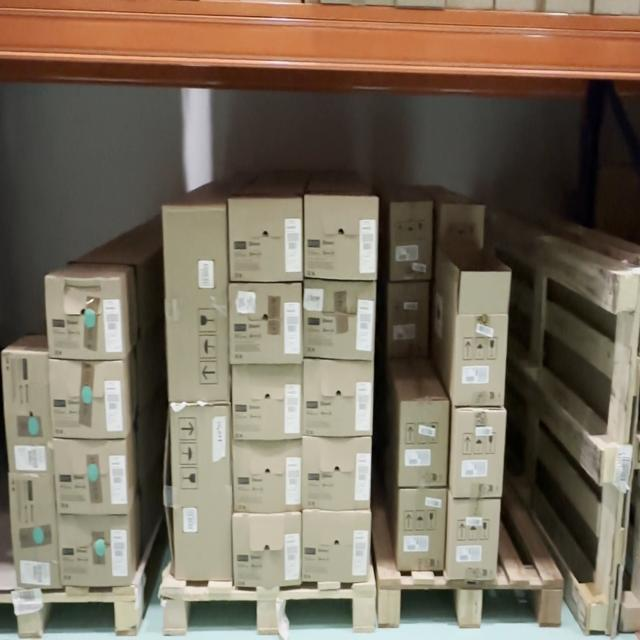box: (165, 209, 229, 400), (174, 406, 230, 575), (229, 200, 302, 278), (306, 198, 377, 276), (232, 284, 300, 364), (50, 363, 125, 435), (304, 283, 375, 356), (50, 282, 120, 356), (11, 475, 57, 585), (56, 442, 127, 512), (302, 438, 371, 508), (8, 356, 50, 468), (235, 366, 301, 437), (306, 364, 372, 435), (235, 515, 300, 585), (236, 441, 300, 512), (62, 518, 128, 585), (304, 514, 367, 579), (457, 317, 503, 403), (400, 492, 446, 568), (403, 401, 445, 484), (460, 411, 500, 494), (452, 500, 494, 577), (391, 203, 431, 277), (390, 284, 427, 352)
